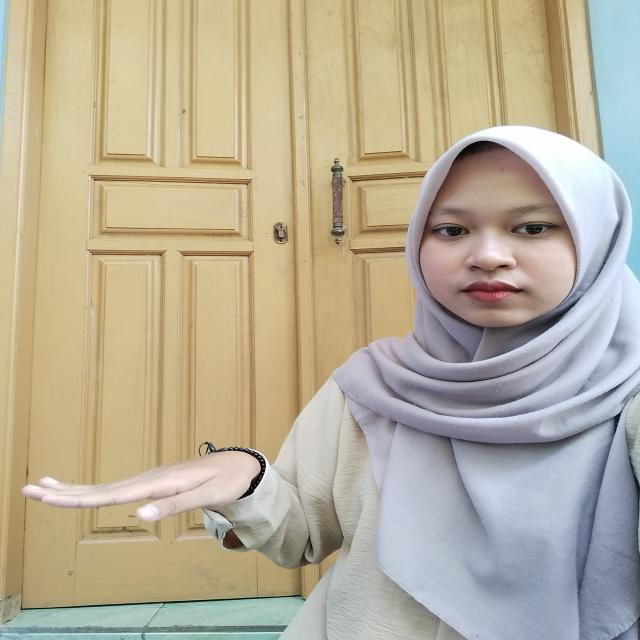adik: (15, 439, 293, 563)
